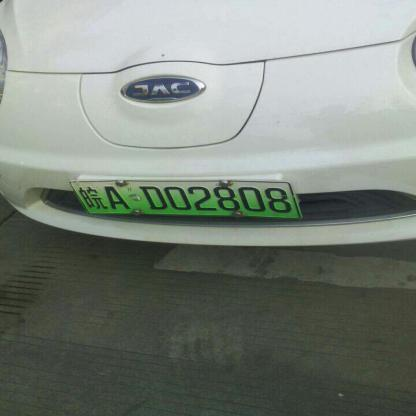lp: (69, 183, 301, 216)
